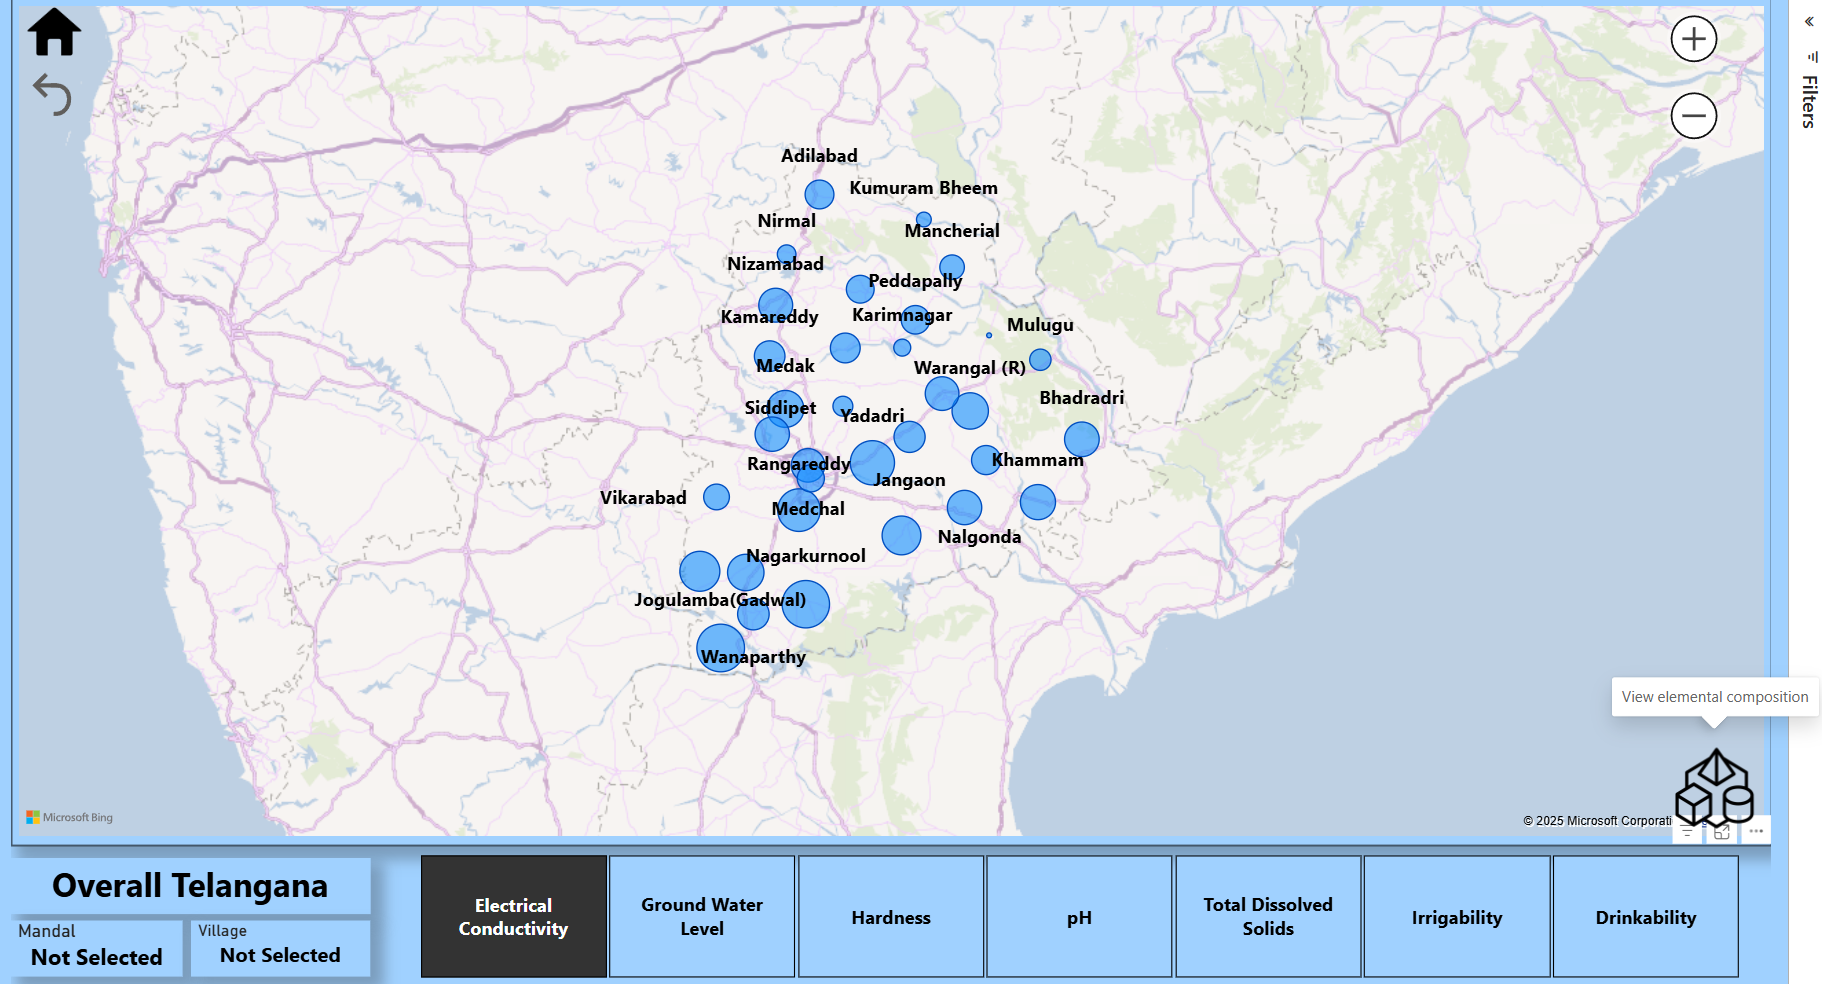

The page's visual inventory and layout, read from the dashboard file:
{"tool":"powerbi","page":{"name":"Map","canvas":[1280,720],"ordinal":4},"visuals":[{"type":"azureMap","title":"Standard Map","fields":{"Size":["Water Measures.Electrical Conductivity"],"Y":["Avg(Cleaned Data.Latitude)"],"X":["Avg(Cleaned Data.Longitude)"],"Category":["Cleaned Data.District Hierarchy.District","Cleaned Data.District Hierarchy.Mandal","Cleaned Data.District Hierarchy.Village"]},"box":[0,0,1280.6,616.4],"z":0},{"type":"card","title":"District","fields":{"Values":["Water Measures.Drill District"]},"box":[0,625.5,261.2,41.1],"z":0,"group":"g1"},{"type":"group","id":"g1","title":"Location Names","box":[0,616.8,261.2,95.8],"z":1000},{"type":"card","title":"Mandal","fields":{"Values":["Water Measures.Drill Mandal"]},"box":[0.1,671.5,125.1,41.1],"z":1000,"group":"g1"},{"type":"slicer","title":"Normal Paras","fields":{"Values":["Bubble Size Parameter.Bubble Size Parameter"]},"box":[271.6,616.4,1009,103],"z":2000},{"type":"card","title":"Village","fields":{"Values":["Water Measures.Drill Village"]},"box":[131.1,671.5,130.1,41.1],"z":2000,"group":"g1"},{"type":"image","title":"Home","box":[0,0,62.7,49.3],"z":3000},{"type":"textbox","box":[0,616.8,42.4,28.3],"z":3000,"group":"g1"},{"type":"actionButton","title":"Reset View","box":[9,49.3,43.3,41.8],"z":4000},{"type":"image","box":[1198.5,534.3,82.1,82.1],"z":5000}]}

Visuals, with their boxes on the page's 1280x720 design canvas (x1, y1, x2, y2). These are canvas units, not pixel positions in the 1822x984 screenshot, which may show the page scaled, cropped or inside an application window:
"Standard Map" azureMap: region(0, 0, 1281, 616)
"District" card: region(0, 626, 261, 667)
"Location Names" group: region(0, 617, 261, 713)
"Mandal" card: region(0, 672, 125, 713)
"Normal Paras" slicer: region(272, 616, 1281, 719)
"Village" card: region(131, 672, 261, 713)
"Home" image: region(0, 0, 63, 49)
textbox: region(0, 617, 42, 645)
"Reset View" actionButton: region(9, 49, 52, 91)
image: region(1198, 534, 1281, 616)
